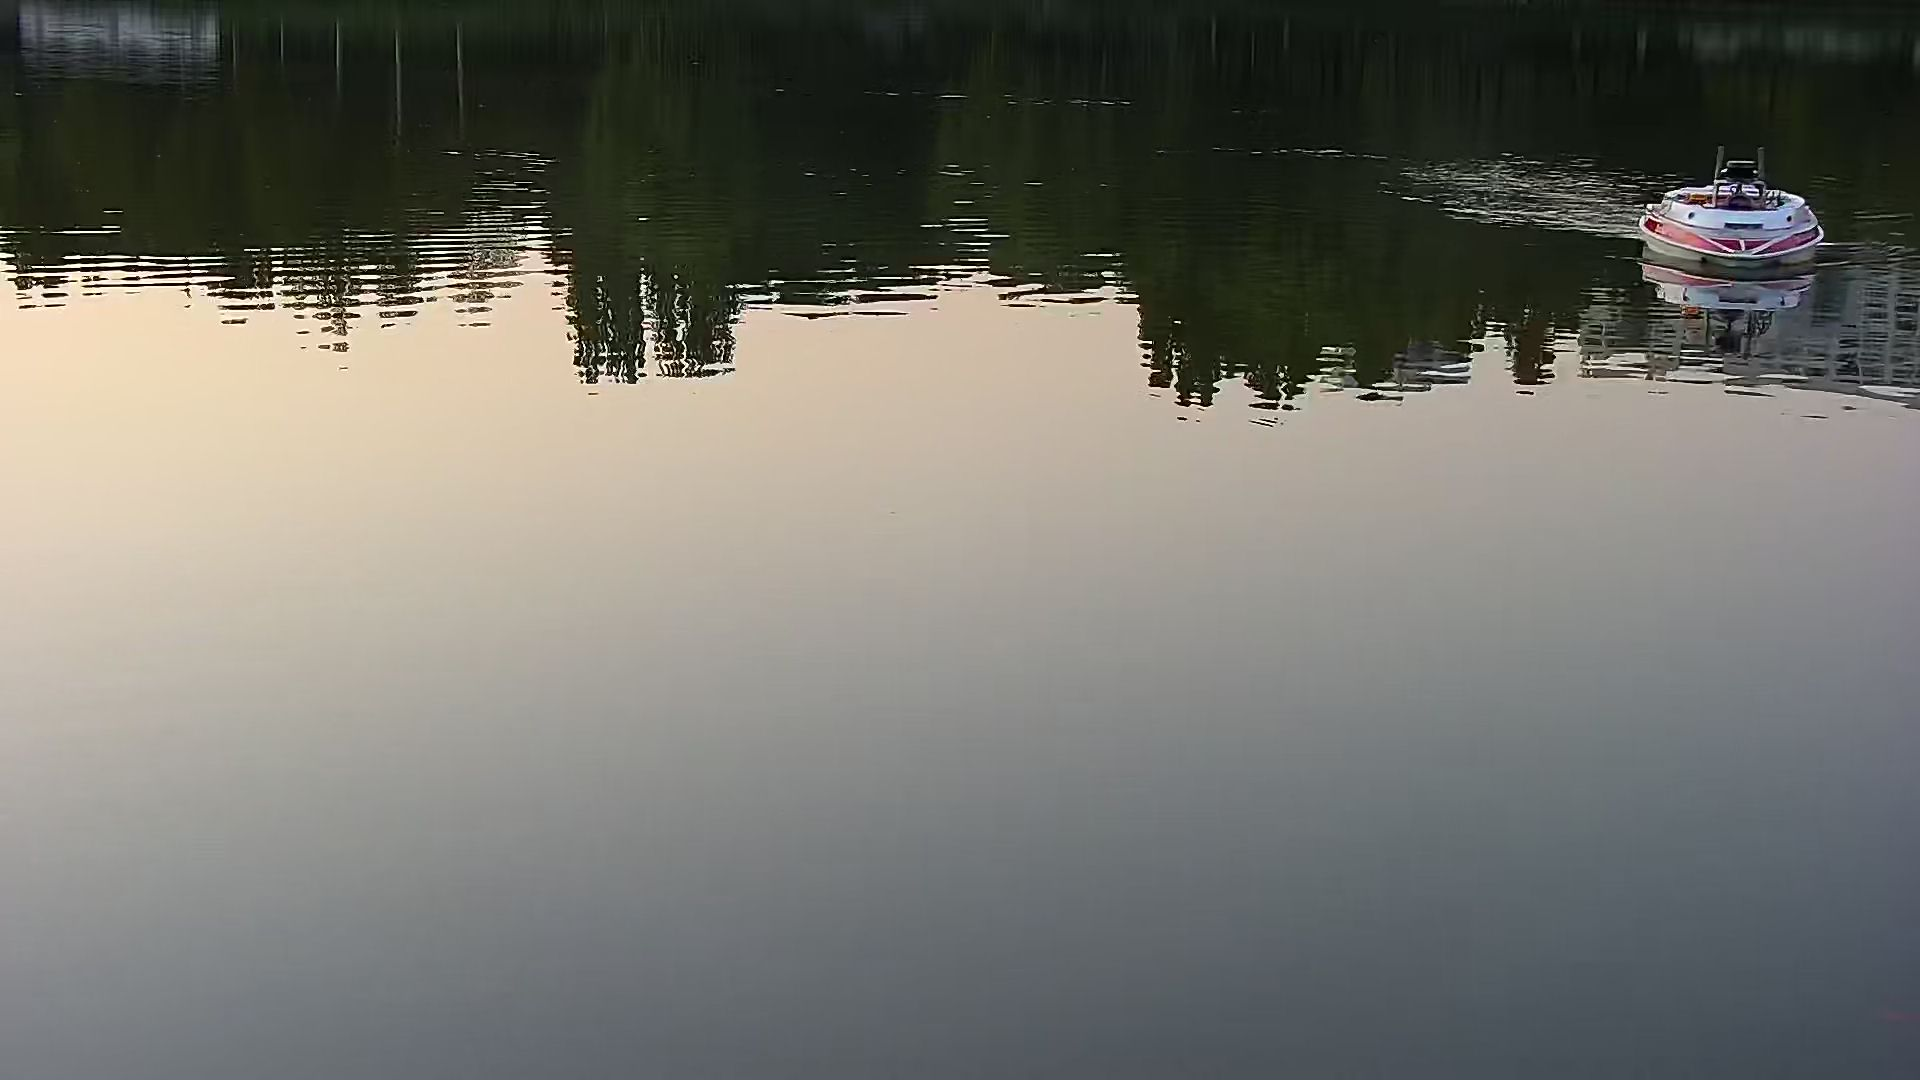boat: (1640, 141, 1832, 287)
